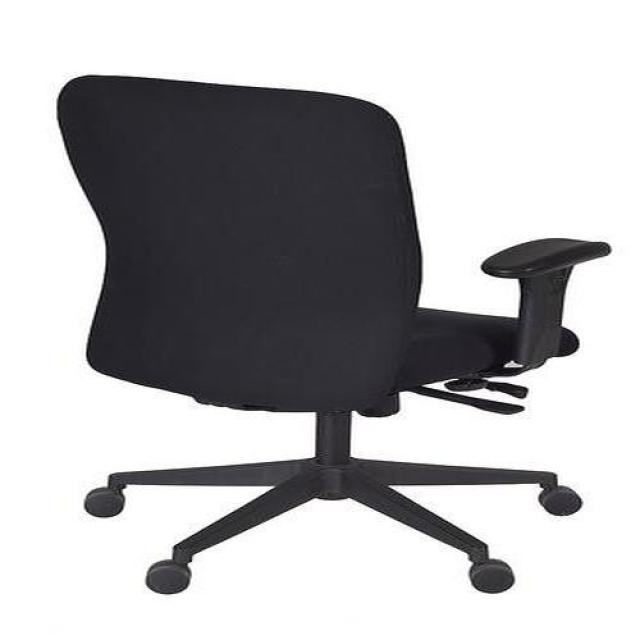swivelchair: (56, 76, 612, 599)
